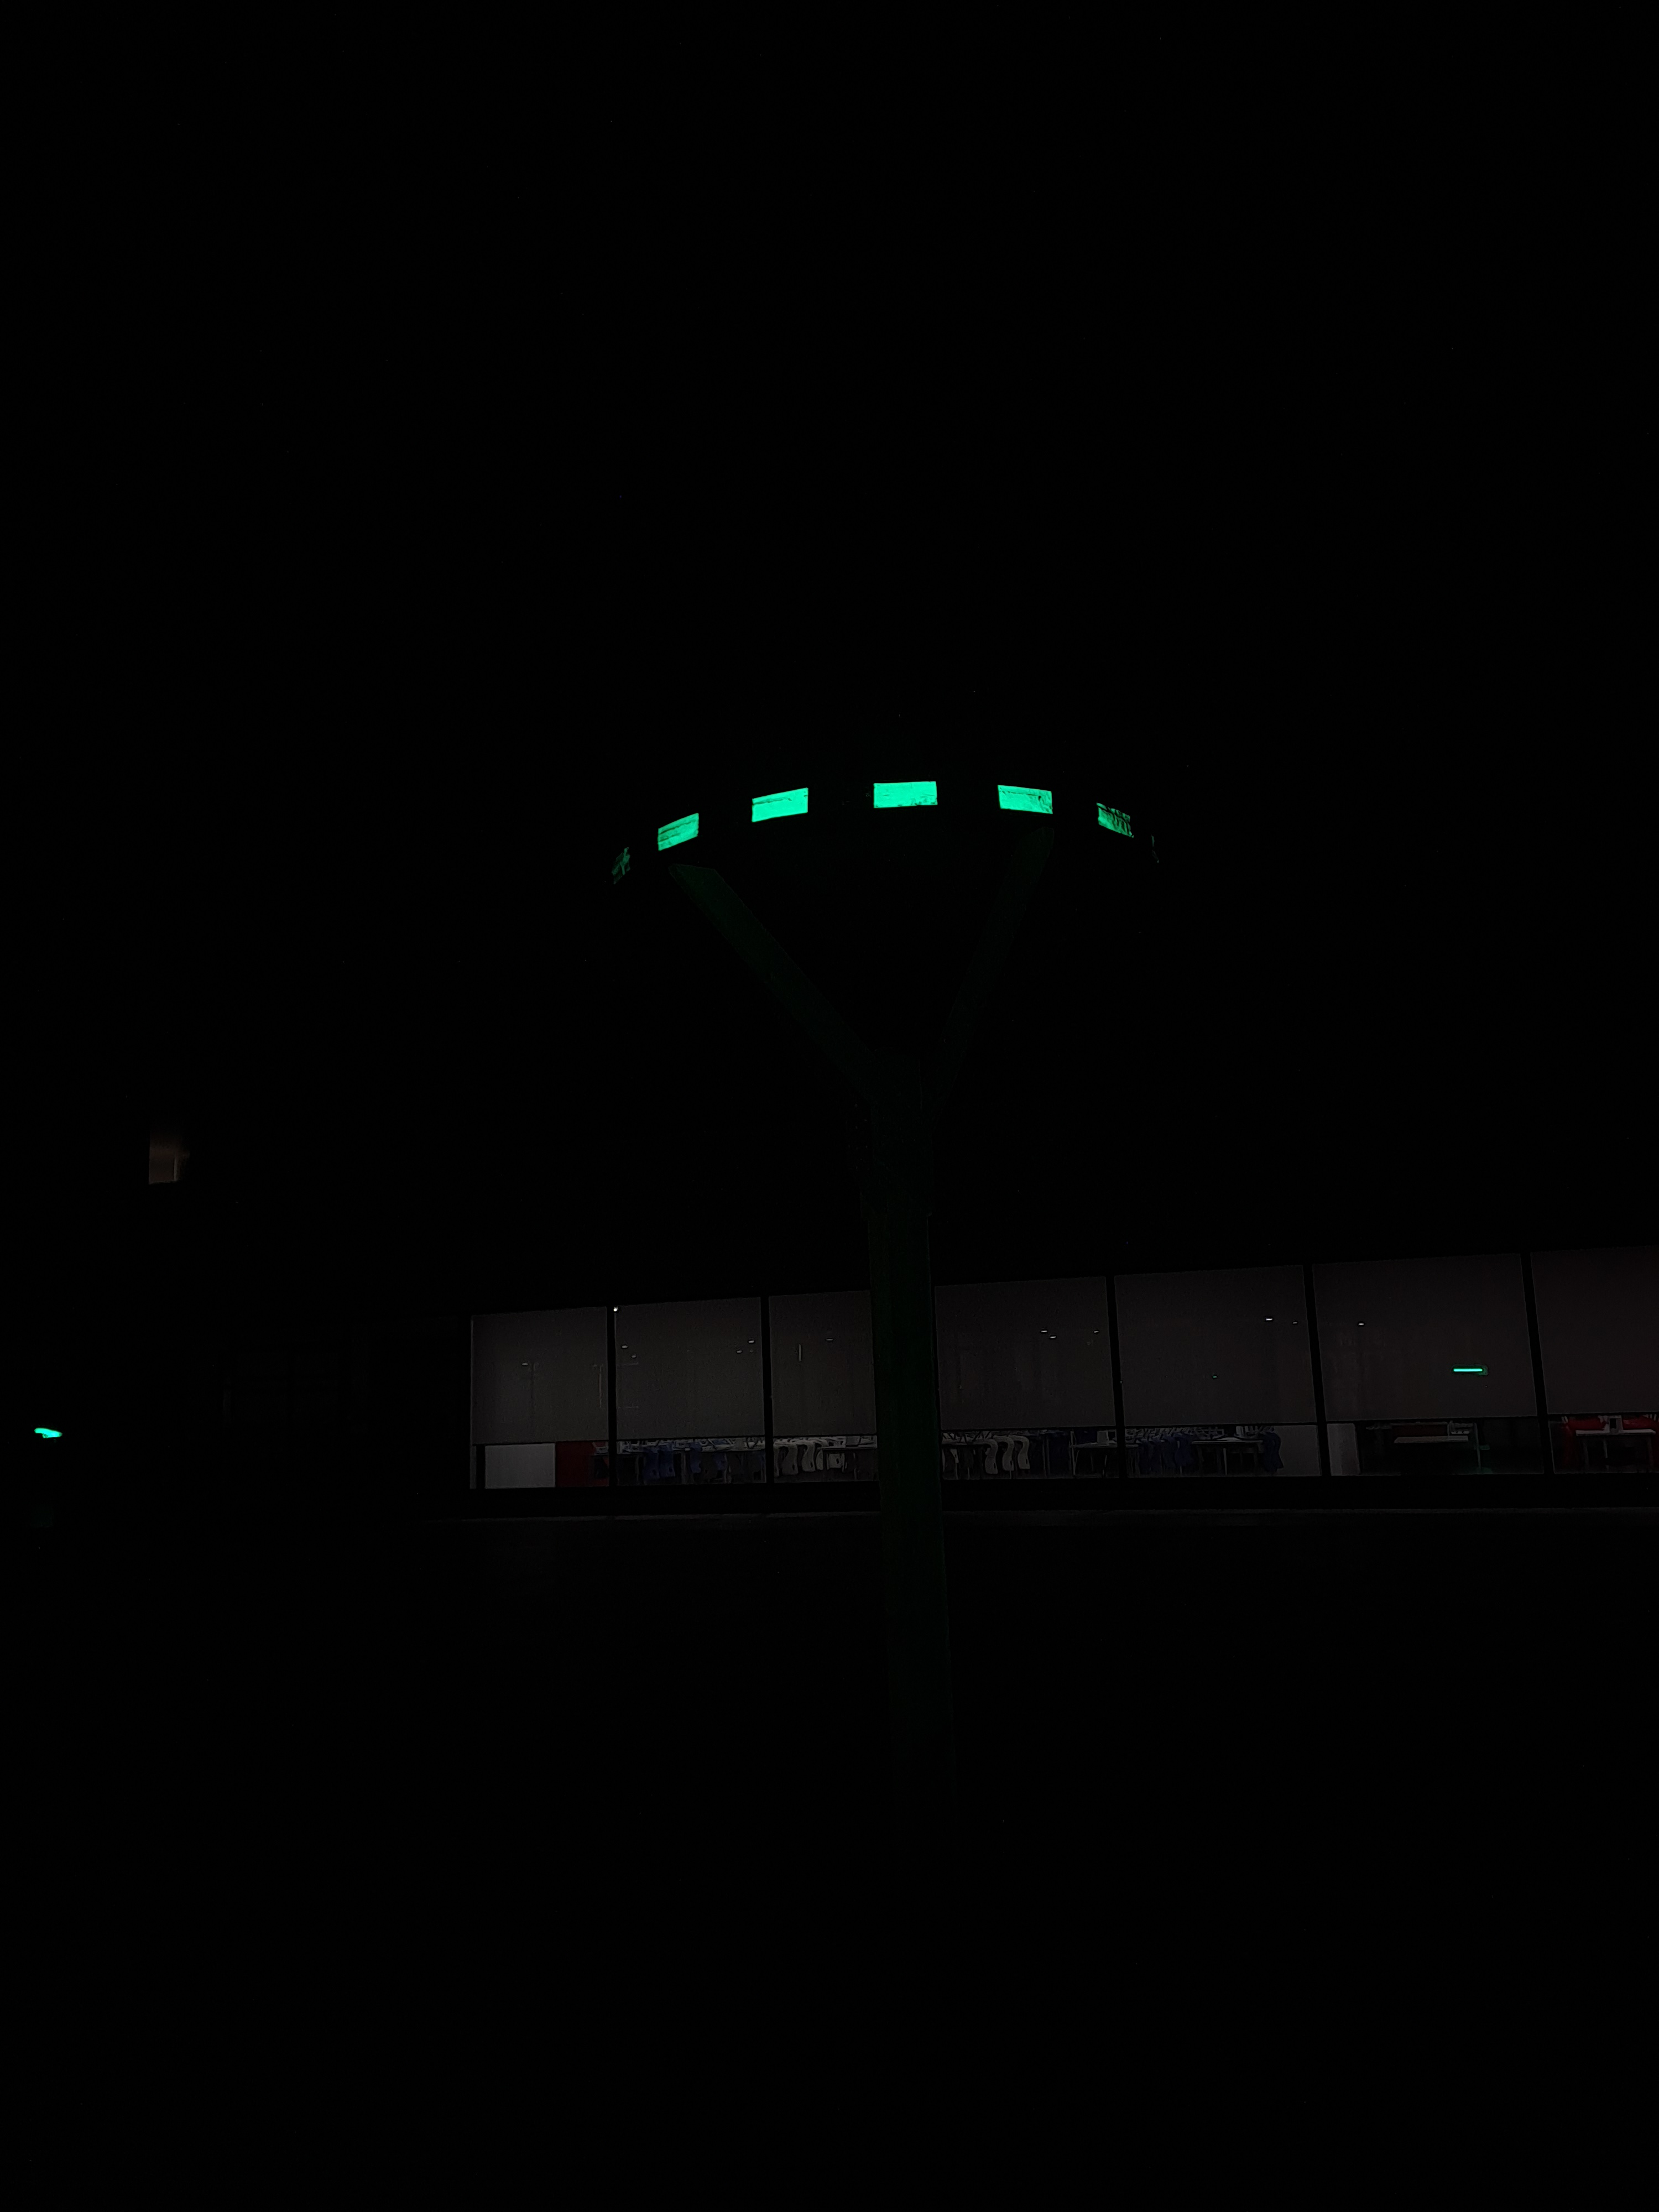hoop: (640, 779, 1140, 852)
